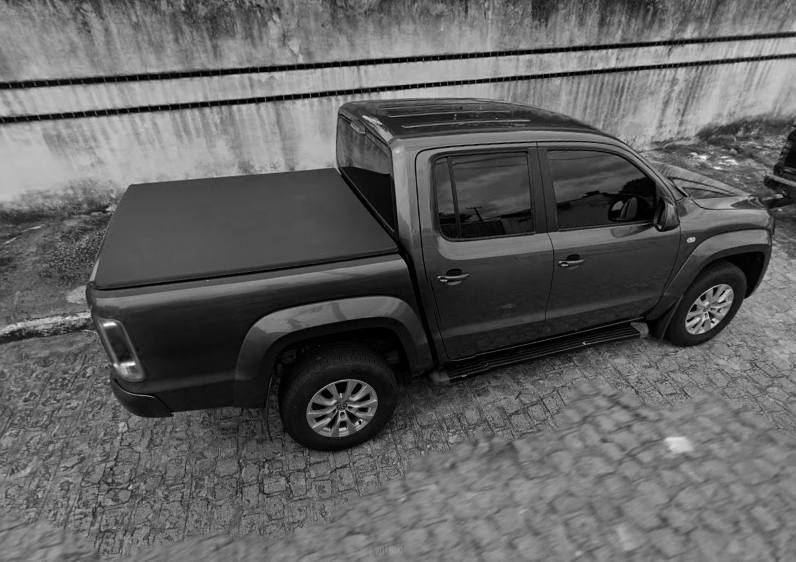car: (86, 93, 777, 453)
